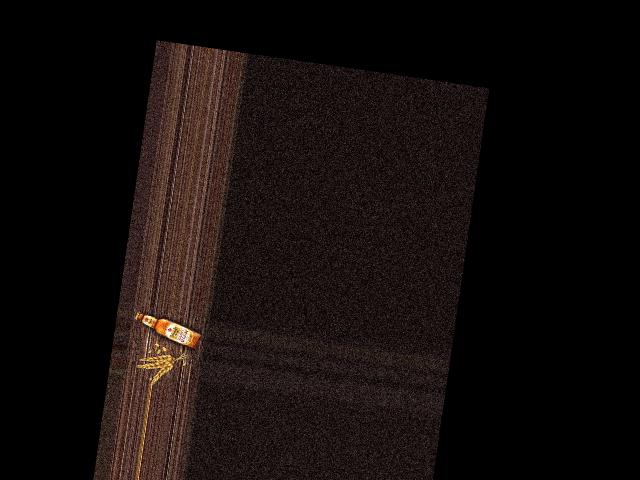beer: (131, 310, 203, 349)
